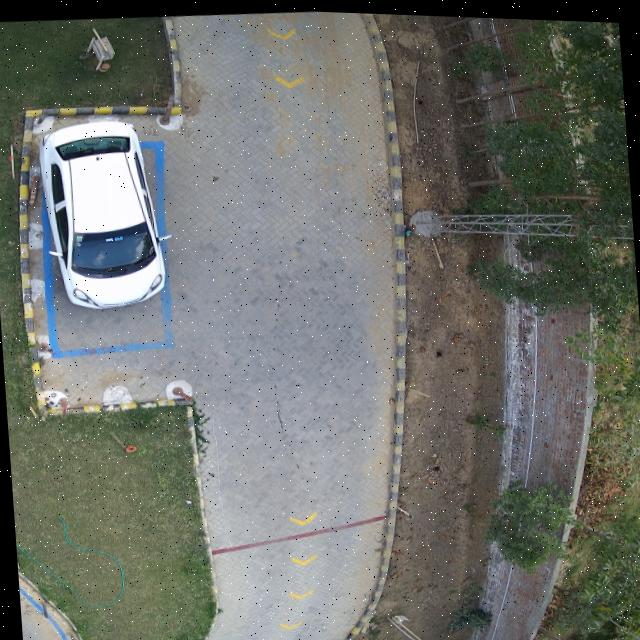car: (38, 120, 165, 308)
